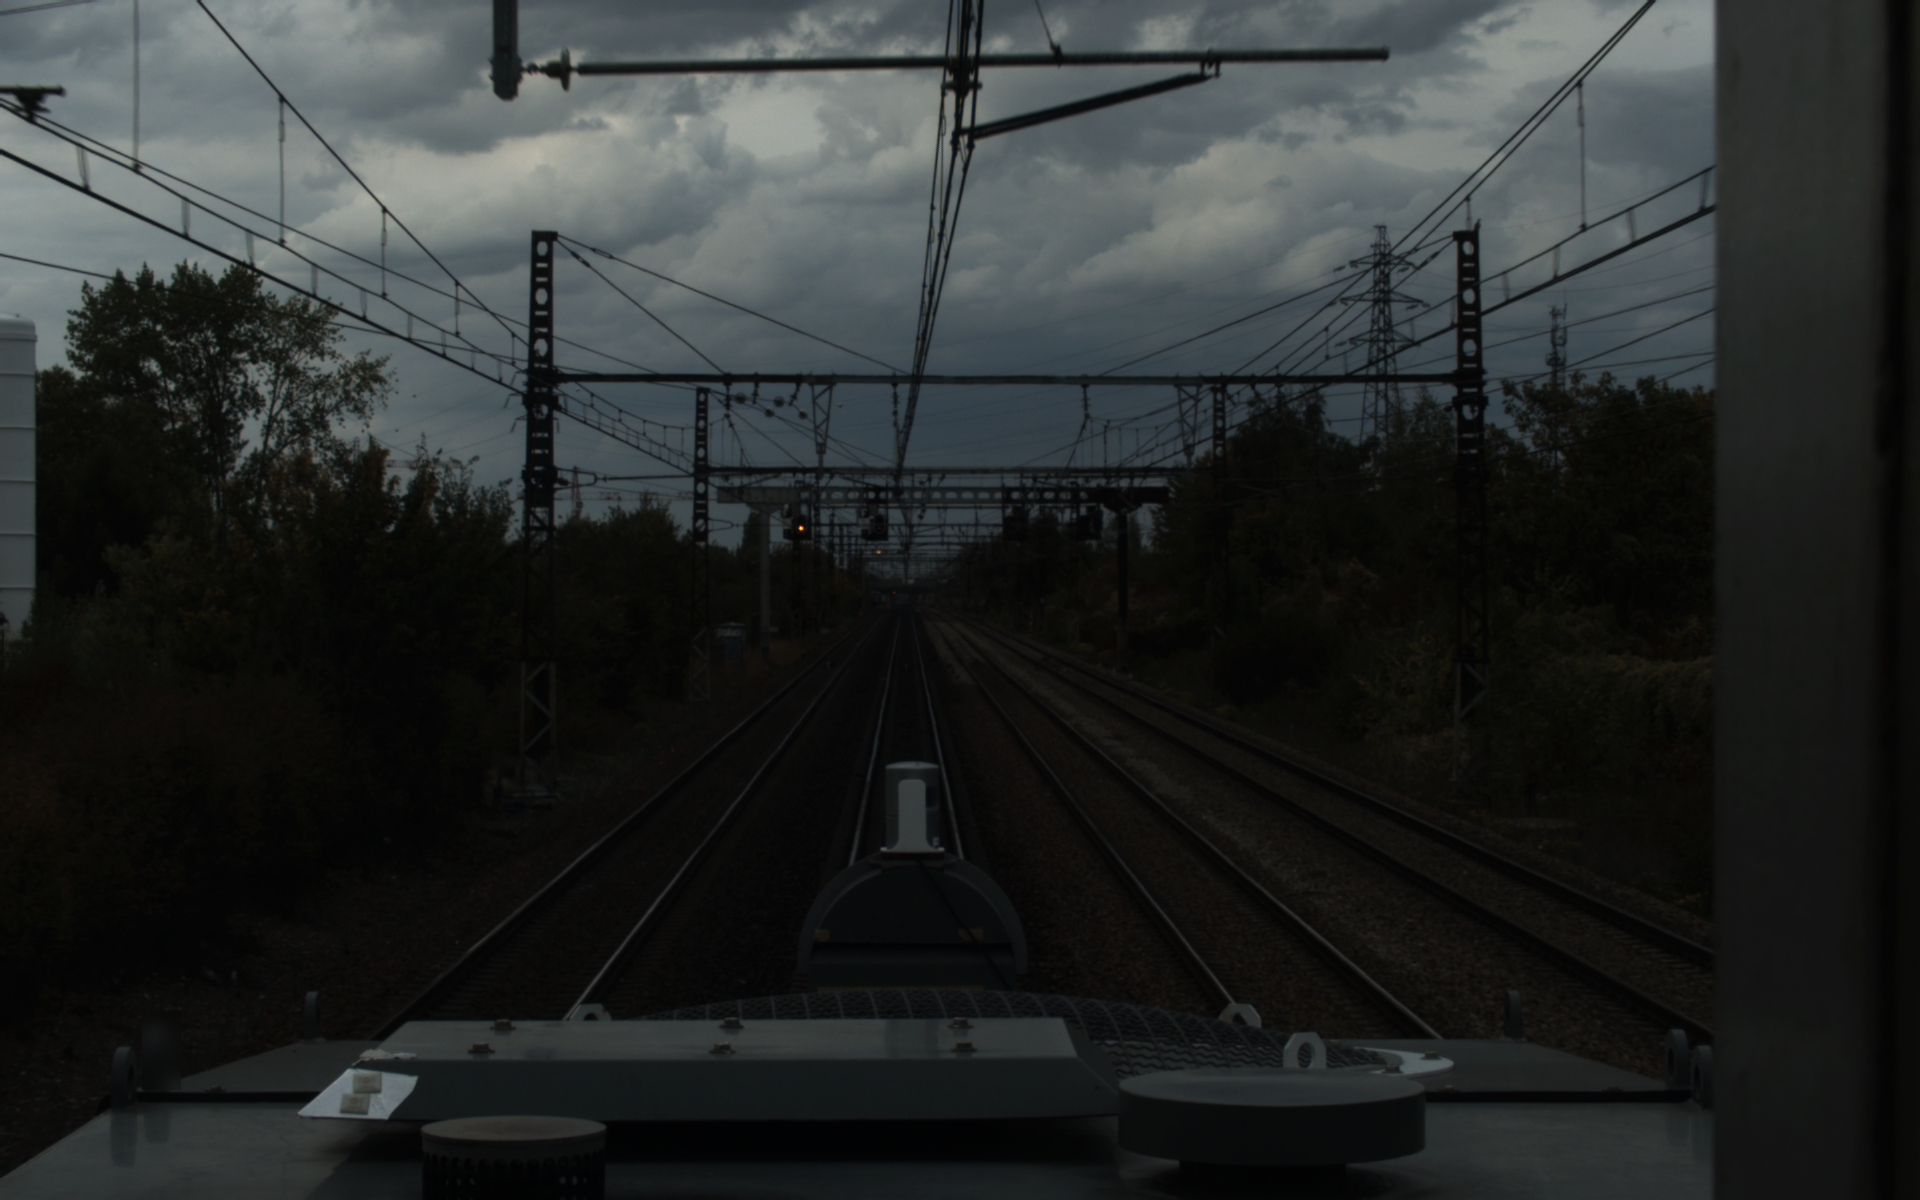Blinking: (871, 512, 886, 535)
Fixed: (793, 512, 809, 534)
